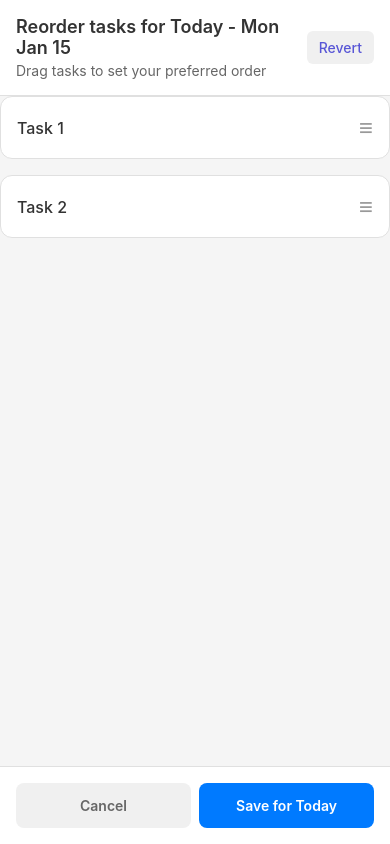
Test: ReorderTasksScreen › shows error message when API fails
This screenshot has width=390, height=844.
Click the text "Save for Today".
click(286, 806)  # box [236, 797, 337, 814]
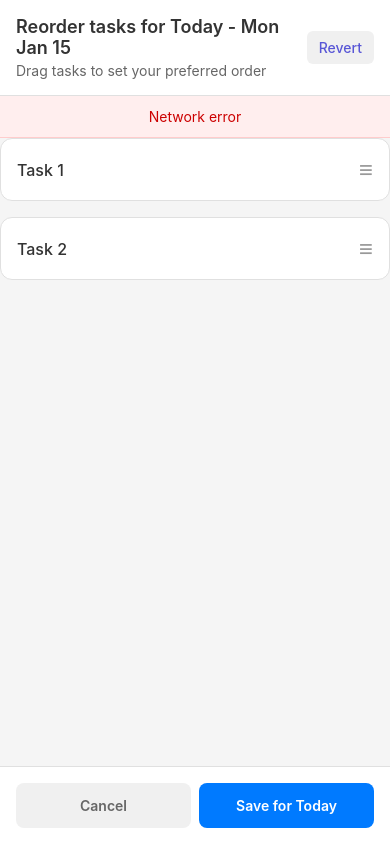
Expected: the text "Network error" is shown, [149, 108, 241, 125]
